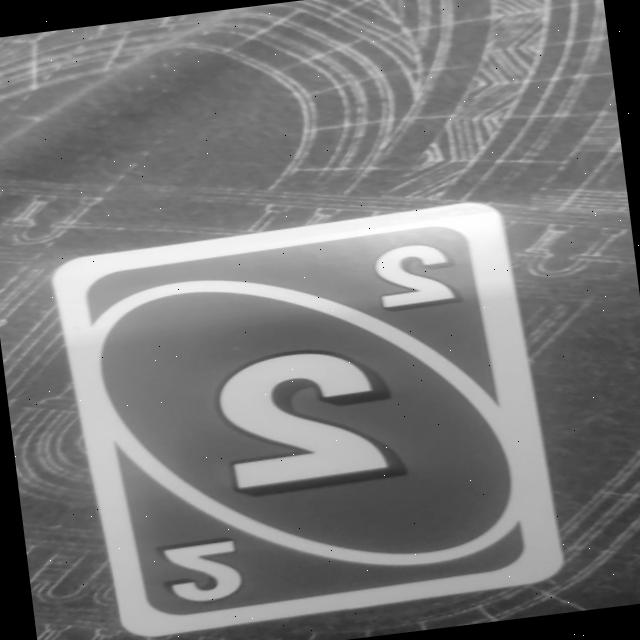card_2: (48, 193, 568, 640)
